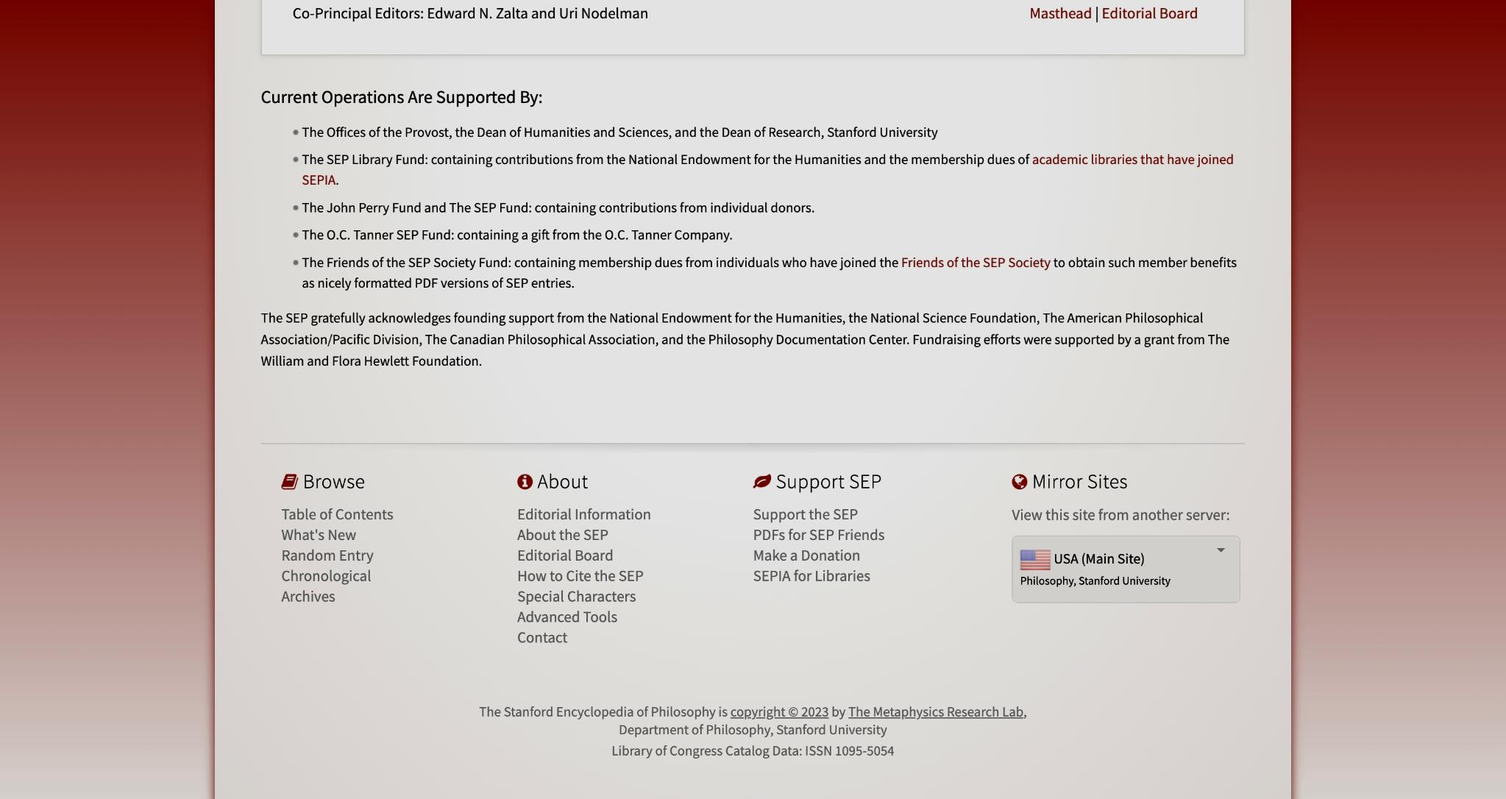webelement: (260, 306, 1245, 370), (302, 150, 1234, 187), (517, 503, 750, 646), (281, 503, 514, 605), (466, 702, 1040, 737), (753, 503, 986, 585), (1012, 535, 1239, 601), (466, 741, 1040, 759), (292, 1, 743, 22), (747, 1, 1198, 22), (1012, 503, 1238, 524), (1020, 570, 1232, 590), (427, 2, 649, 21), (848, 702, 1023, 718), (517, 504, 651, 523), (901, 253, 1050, 270), (293, 2, 424, 21), (753, 525, 884, 544), (517, 565, 643, 584), (518, 586, 636, 605), (753, 565, 870, 584), (281, 504, 393, 523), (753, 545, 860, 564), (753, 504, 857, 523), (517, 606, 617, 625), (1102, 2, 1198, 21), (517, 545, 613, 564), (281, 545, 373, 564), (517, 525, 608, 544), (281, 565, 371, 584), (729, 702, 827, 718), (281, 525, 356, 544), (1029, 2, 1091, 21), (281, 586, 335, 605), (517, 627, 567, 646)
